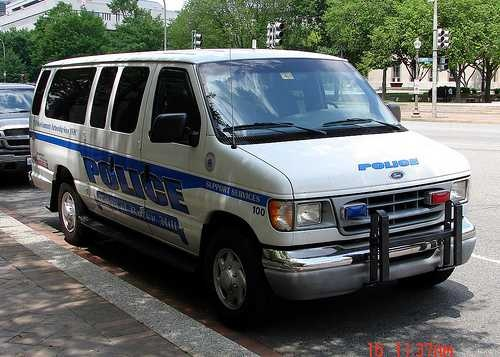Police Van: (29, 47, 479, 301)
